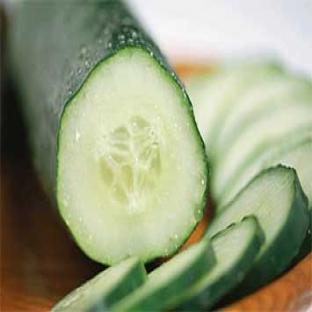Cucumber: (205, 166, 309, 290), (211, 97, 311, 202), (186, 63, 280, 157), (172, 217, 264, 310), (214, 73, 311, 157), (219, 127, 311, 210), (112, 240, 215, 311), (52, 258, 147, 311), (264, 134, 311, 211)
